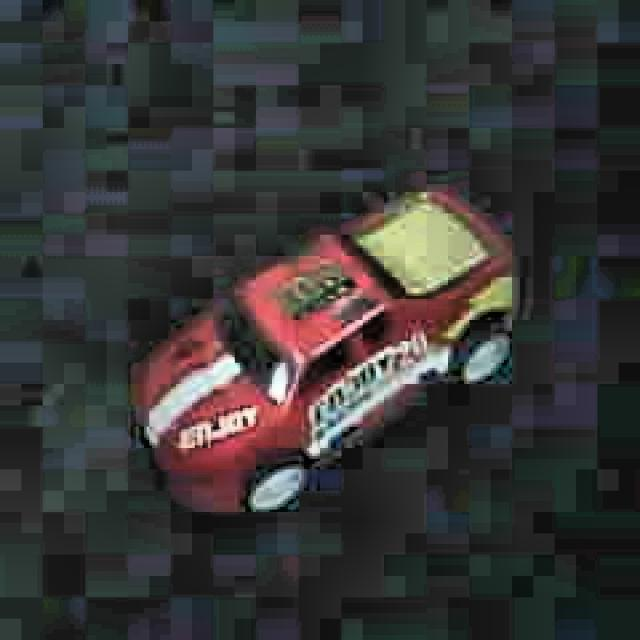car: (132, 182, 520, 520)
